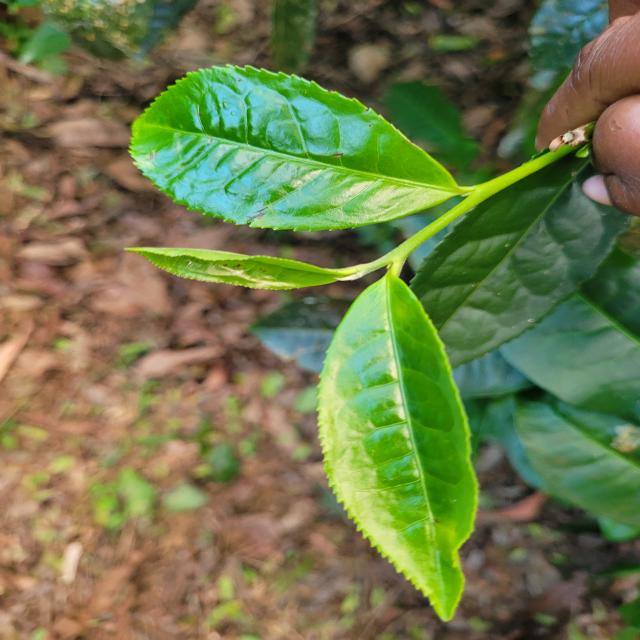Catagory A(1-2 days): (104, 224, 372, 302)
